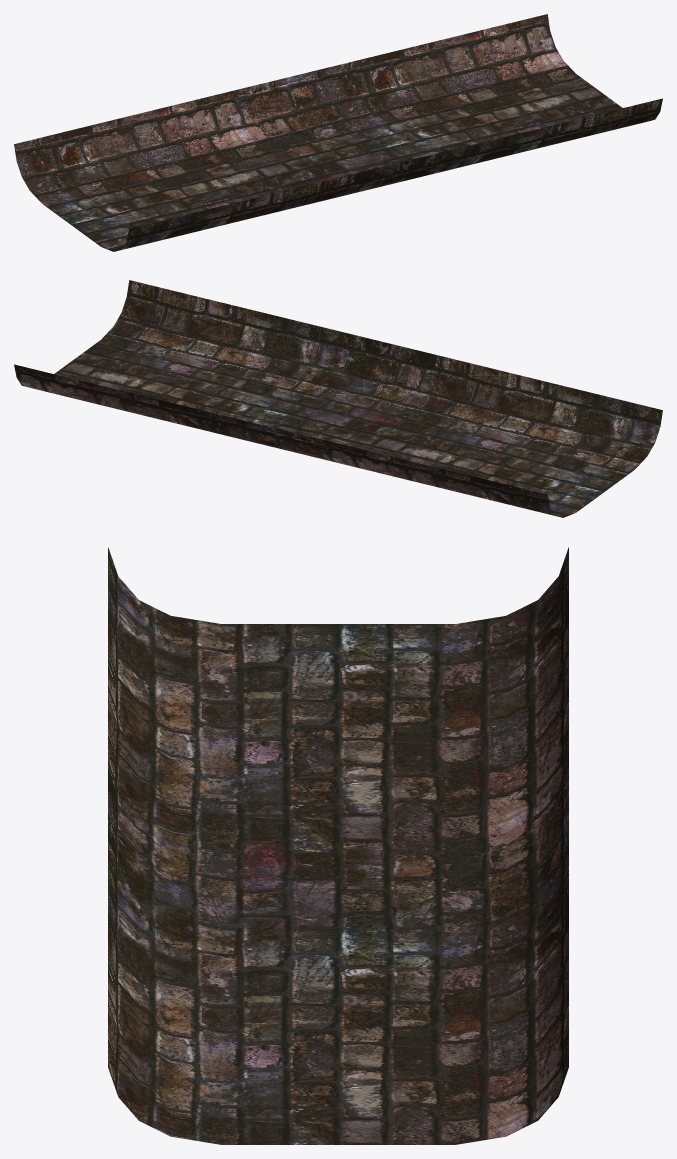
File: wall_tunnel_floor.DAE
The picture shows the model from 3 angles, top to bottom: view 1: azimuth 30°, elevation 25°; view 2: azimuth 150°, elevation 25°; view 3: azimuth 270°, elevation 25°; orthographic projection. The views are drawn at different scales.
Visible parts, largest first — view 1: stone_arch005; view 2: stone_arch005; view 3: stone_arch005.
Boxes of the visible parts, bbox=[...] form: stone_arch005: bbox=[14, 14, 662, 251]; stone_arch005: bbox=[14, 280, 662, 517]; stone_arch005: bbox=[108, 547, 568, 1144].
Size of the model in its own units: 4 by 0.2794 by 1.5.
